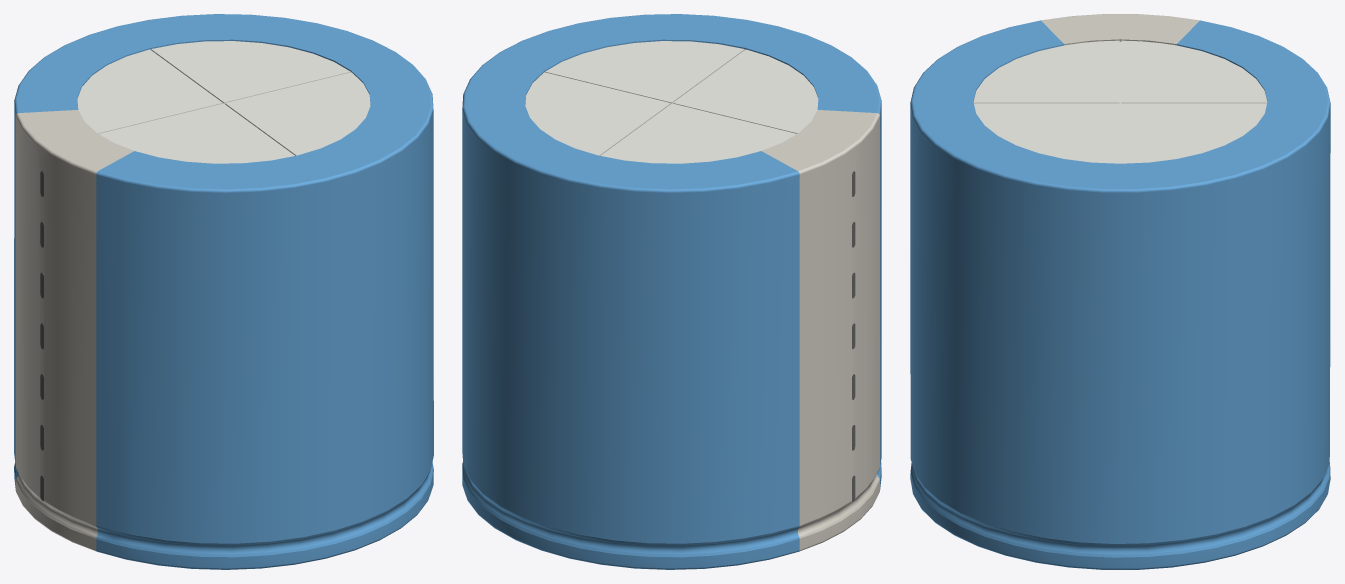
The model's file is kc-cp_radial_d30.0mm_p10.00mm_3pin_snapin.glb.
3 views of the same model, side by side, from view 1: azimuth 30°, elevation 25°; view 2: azimuth 150°, elevation 25°; view 3: azimuth 270°, elevation 25° (orthographic).
Visible parts, largest first — view 1: 0.16666666666666666_0.4166666666666667_0.75_0, 0.6666666666666666_0.6666666666666666_0.5833333333333334_0, 0.8333333333333334_0.8333333333333334_0.75_0.85, 0.16666666666666666_0.16666666666666666_0.16666666666666666_; view 2: 0.16666666666666666_0.4166666666666667_0.75_0, 0.6666666666666666_0.6666666666666666_0.5833333333333334_0, 0.8333333333333334_0.8333333333333334_0.75_0.85, 0.16666666666666666_0.16666666666666666_0.16666666666666666_; view 3: 0.16666666666666666_0.4166666666666667_0.75_0, 0.8333333333333334_0.8333333333333334_0.75_0.85, 0.6666666666666666_0.6666666666666666_0.5833333333333334_0.
Boxes of the visible parts, x1=… form: 0.16666666666666666_0.4166666666666667_0.75_0: x1=14, y1=14, x2=433, y2=569; 0.6666666666666666_0.6666666666666666_0.5833333333333334_0: x1=16, y1=110, x2=133, y2=551; 0.8333333333333334_0.8333333333333334_0.75_0.85: x1=77, y1=41, x2=370, y2=163; 0.16666666666666666_0.16666666666666666_0.16666666666666666_: x1=40, y1=171, x2=43, y2=501; 0.16666666666666666_0.4166666666666667_0.75_0: x1=462, y1=14, x2=881, y2=569; 0.6666666666666666_0.6666666666666666_0.5833333333333334_0: x1=762, y1=110, x2=879, y2=551; 0.8333333333333334_0.8333333333333334_0.75_0.85: x1=525, y1=41, x2=818, y2=163; 0.16666666666666666_0.16666666666666666_0.16666666666666666_: x1=852, y1=171, x2=855, y2=501; 0.16666666666666666_0.4166666666666667_0.75_0: x1=910, y1=20, x2=1330, y2=569; 0.8333333333333334_0.8333333333333334_0.75_0.85: x1=973, y1=40, x2=1267, y2=163; 0.6666666666666666_0.6666666666666666_0.5833333333333334_0: x1=1041, y1=14, x2=1199, y2=45.
Size of the model in its own units: 3 by 3.2 by 3.
